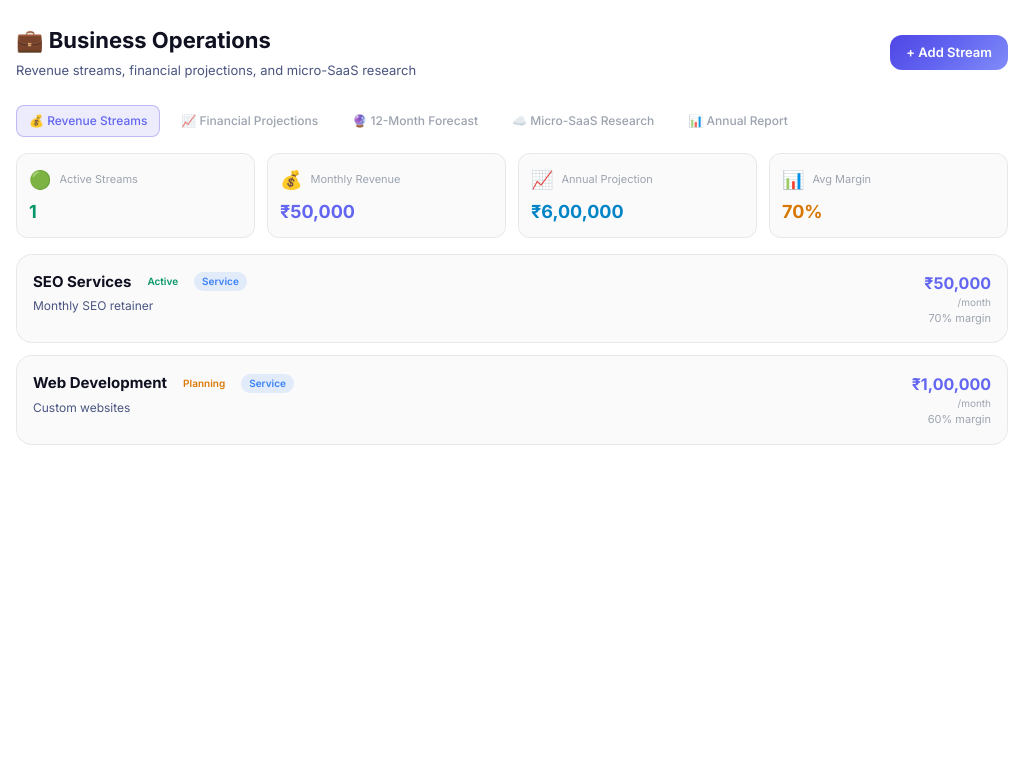
it: BusinessTab › view tab switching › switches to micro-saas view
Click the button "☁️ Micro-SaaS Research".
click(583, 120)  # box [499, 104, 667, 136]
(page scrolled)
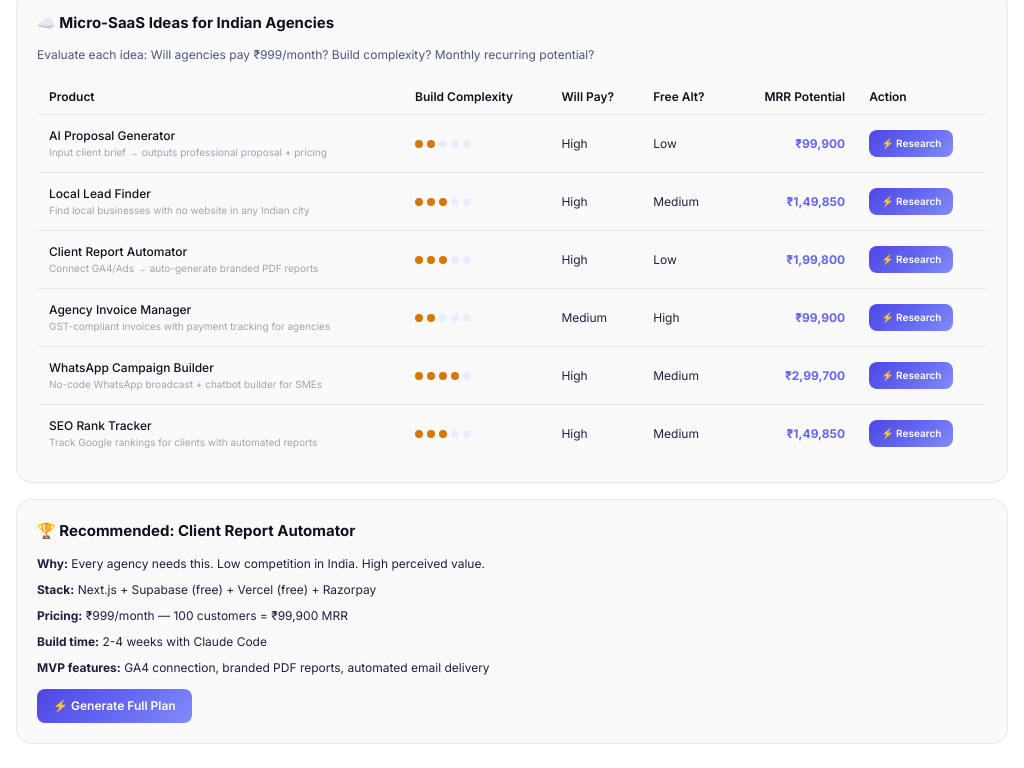
Expected: the heading "☁️ Micro-SaaS Ideas for Indian Agencies" is shown, [37, 12, 334, 32]
Expected: the heading "🏆 Recommended: Client Report Automator" is shown, [37, 521, 355, 540]
